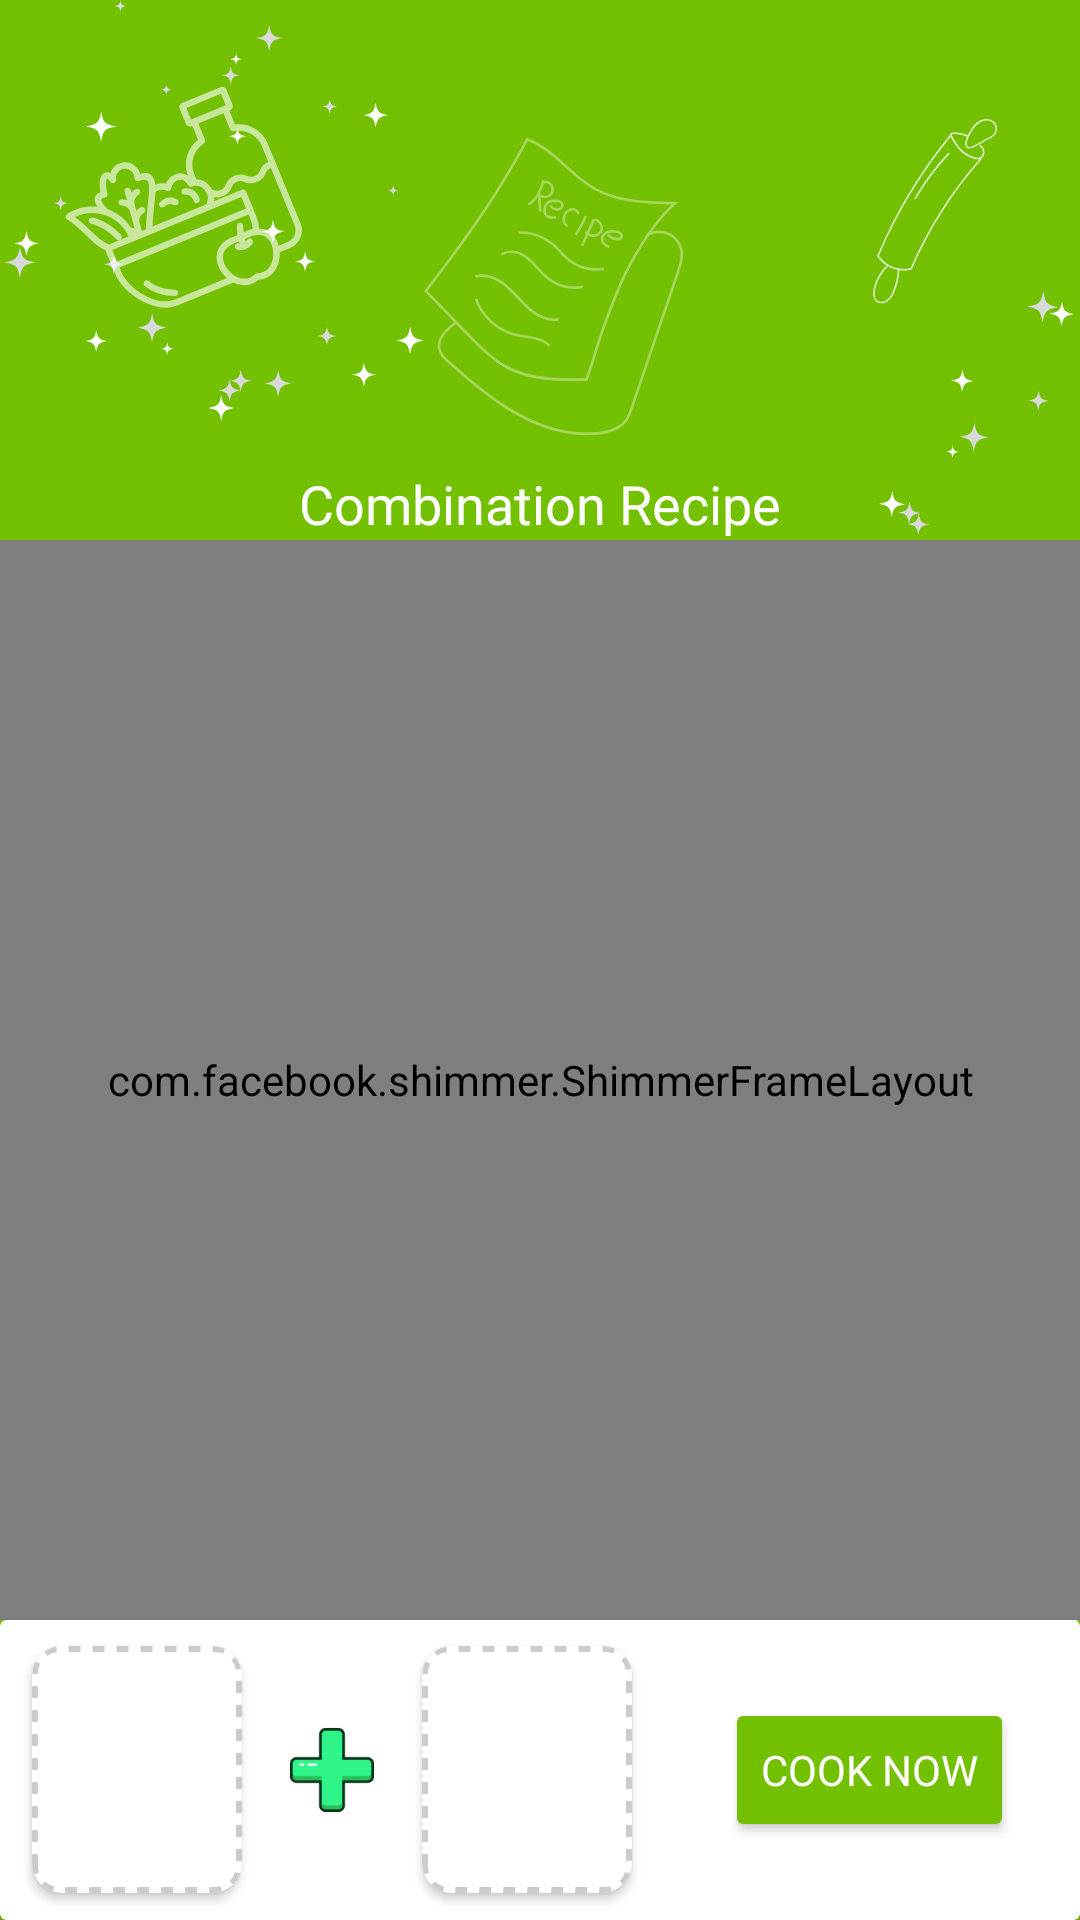

Named icons in this screenshot (1080px x 1920px) and their bounding boxes, (x1, y1, x2, y2):
plus: (290, 1728, 374, 1812)
